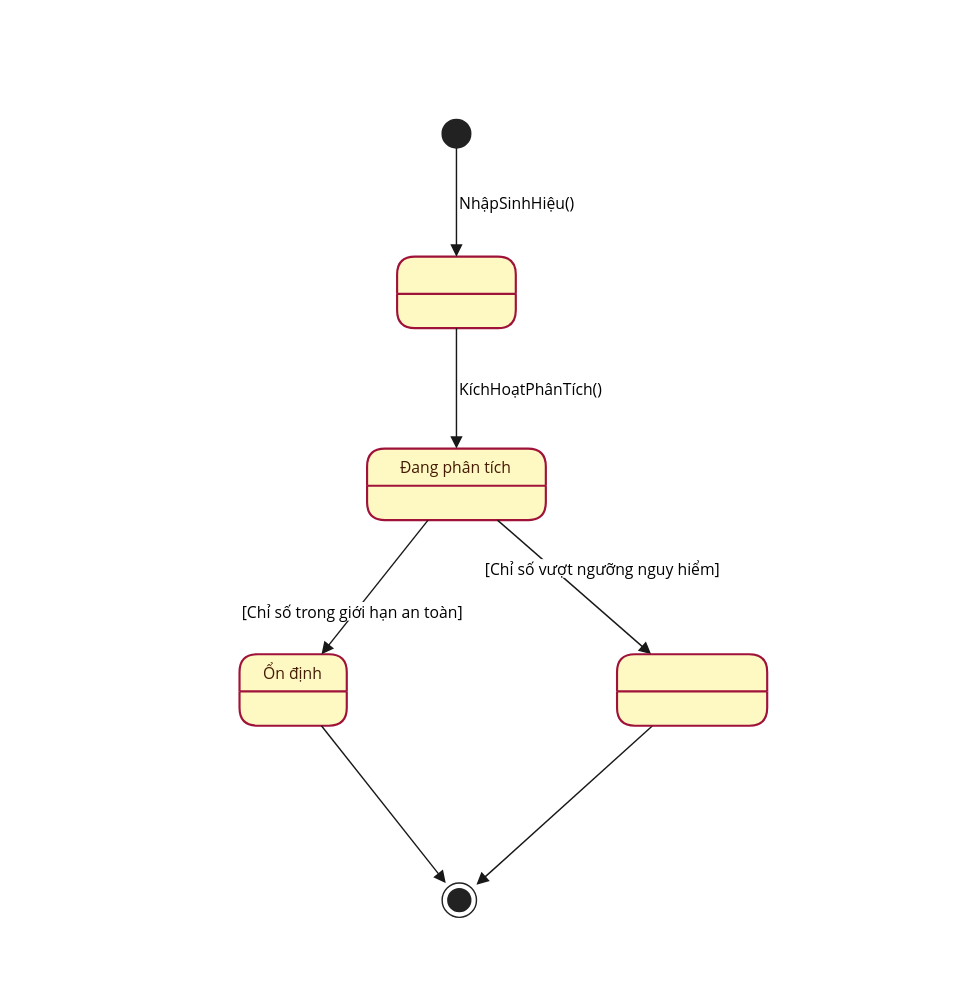
Image size: 955x981. Some labels were removed from this diagram. Here are the shapes that lost their labels. From the top down, the centre of each, then its label:
point 455,292: Mới nhập
point 691,689: Cảnh báo đỏ
